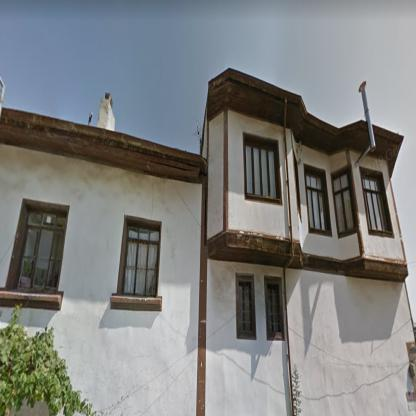window: (11, 210, 66, 294), (120, 224, 160, 297), (245, 142, 279, 198), (362, 175, 388, 231), (332, 171, 355, 233), (306, 173, 326, 230), (268, 283, 281, 332), (239, 282, 252, 330)
